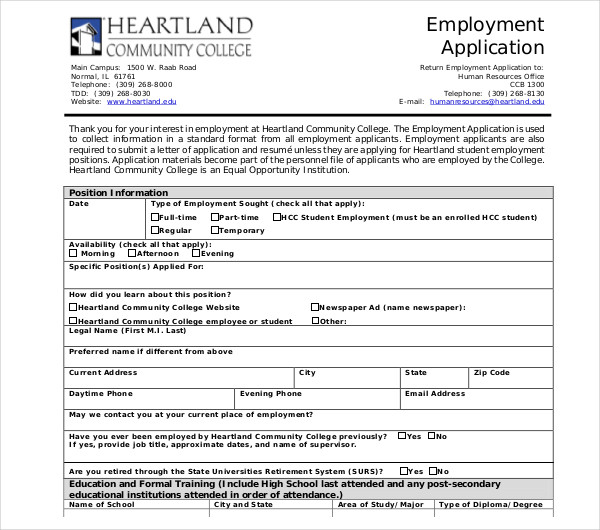table: (63, 187, 554, 510)
